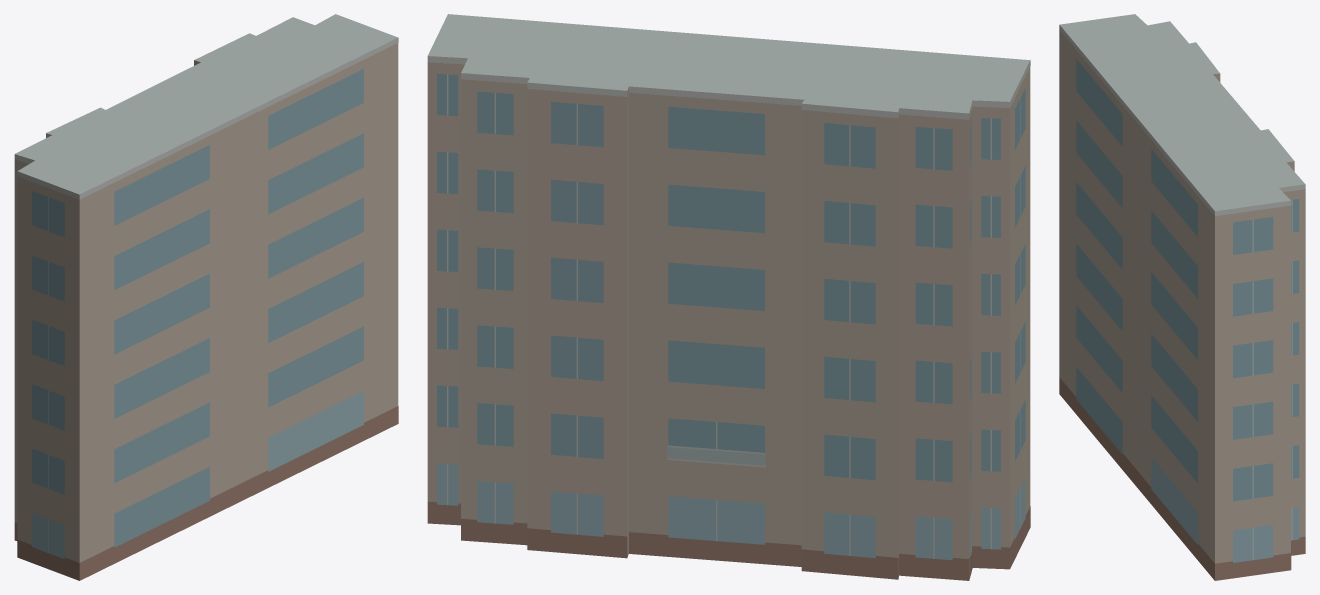
Rendered from survey-upis-32996197.glb.
3 views of the same model, side by side, from view 1: azimuth 30°, elevation 25°; view 2: azimuth 150°, elevation 25°; view 3: azimuth 270°, elevation 25° (orthographic). The views are drawn at different scales.
Parts seen in each view (by area): view 1: survey-upis-32996197.tmp; view 2: survey-upis-32996197.tmp; view 3: survey-upis-32996197.tmp.
Boxes of the visible parts, x1,y1,x2,y2 form: survey-upis-32996197.tmp: [14, 14, 398, 580]; survey-upis-32996197.tmp: [427, 14, 1030, 580]; survey-upis-32996197.tmp: [1059, 14, 1305, 580].
Bounding box in the file's own units: 20.97 × 18.3 × 11.05.
